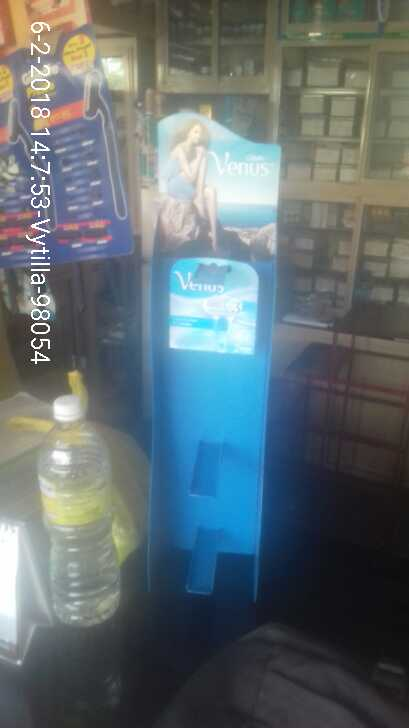venus: (167, 251, 259, 356)
